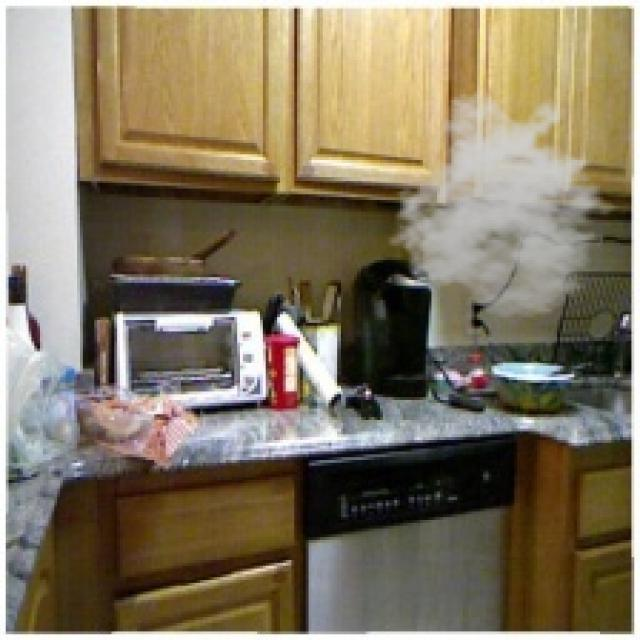Smoke: (386, 88, 632, 320)
